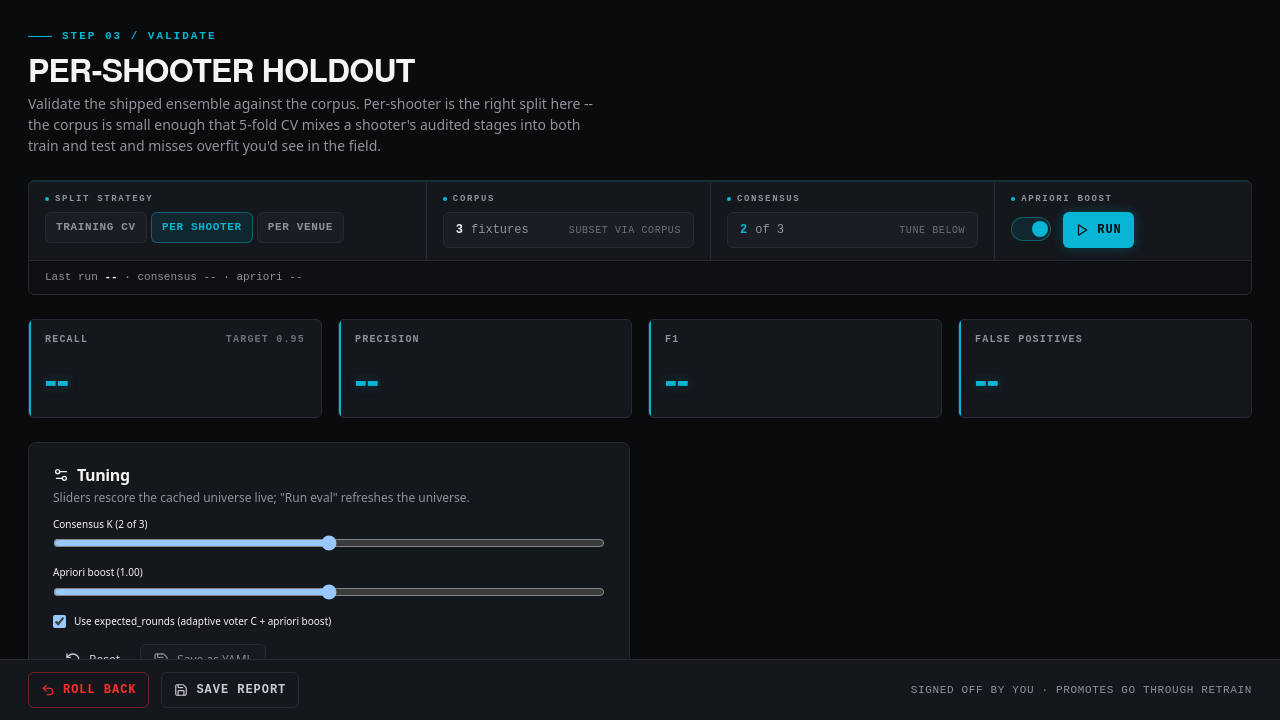
Scenario: DevValidate tuning panel › rescores after the debounce and the headline metrics re-render from the response
Click the button "Run". click: [1098, 230]
box: [1063, 212, 1134, 248]
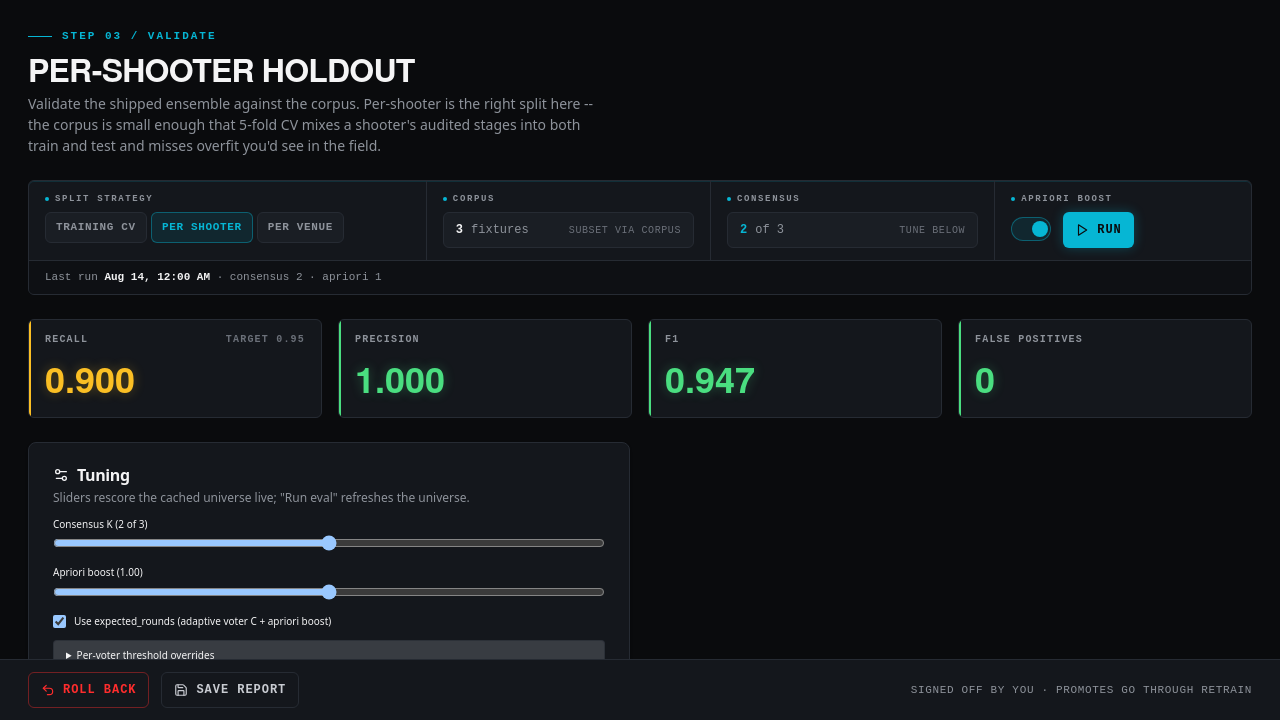
Expected: the text "0.900" is shown, [45, 352, 135, 404]
Set the slider labelled "Consensus K (2 of 3)" to "3". click: [597, 543]
box: [53, 535, 605, 551]
Wait 150 ms
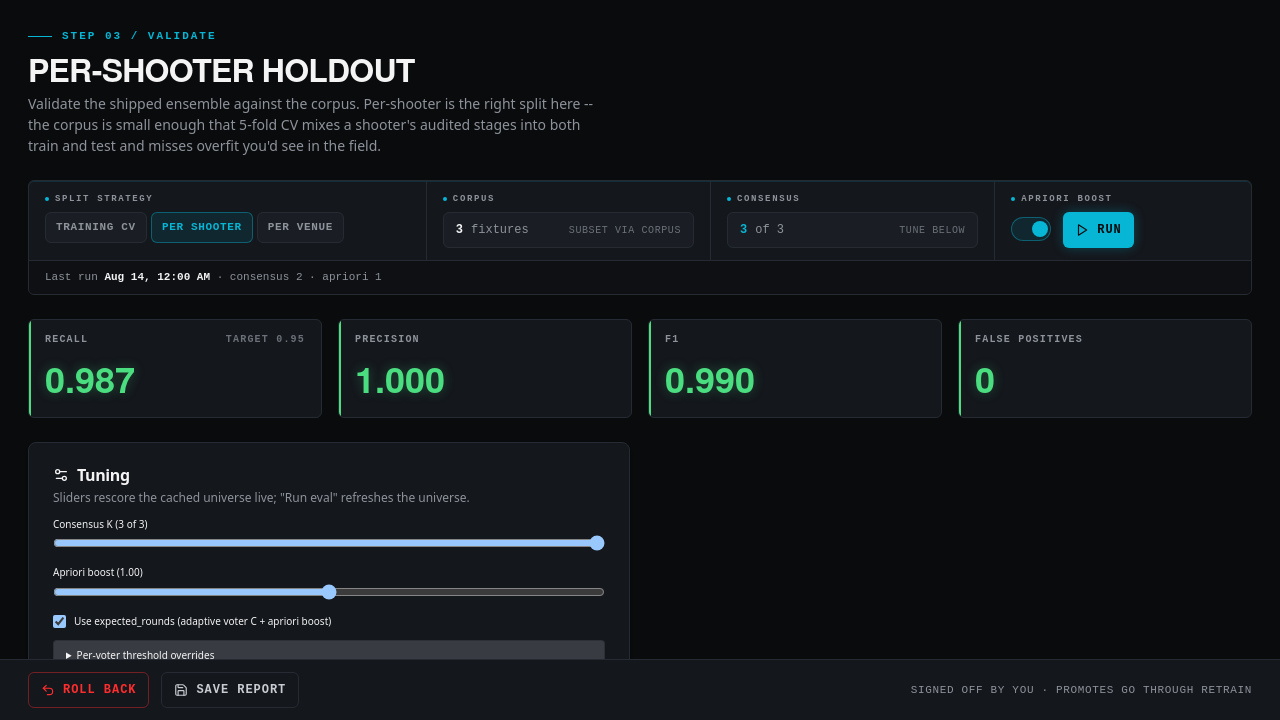
Expected: the text "0.987" is shown, [45, 352, 135, 404]
